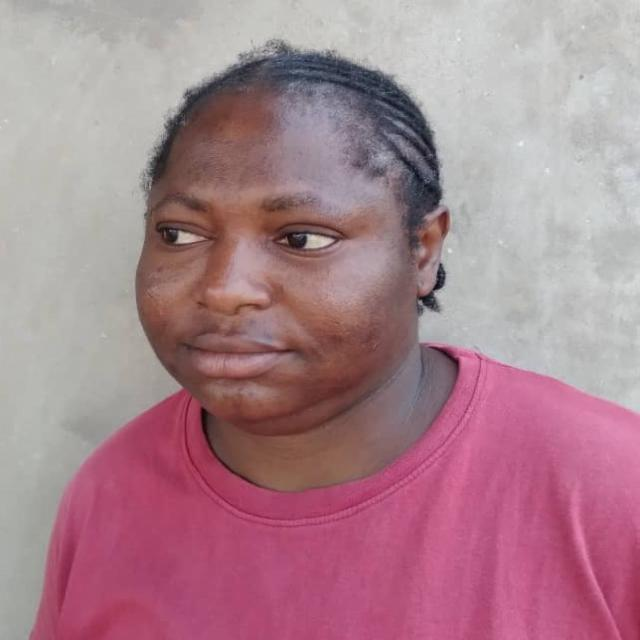happy: (131, 44, 447, 442)
